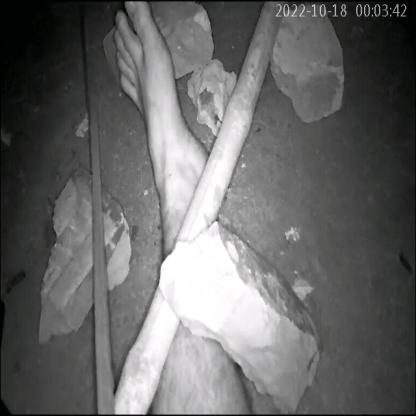leg: (100, 0, 236, 237)
